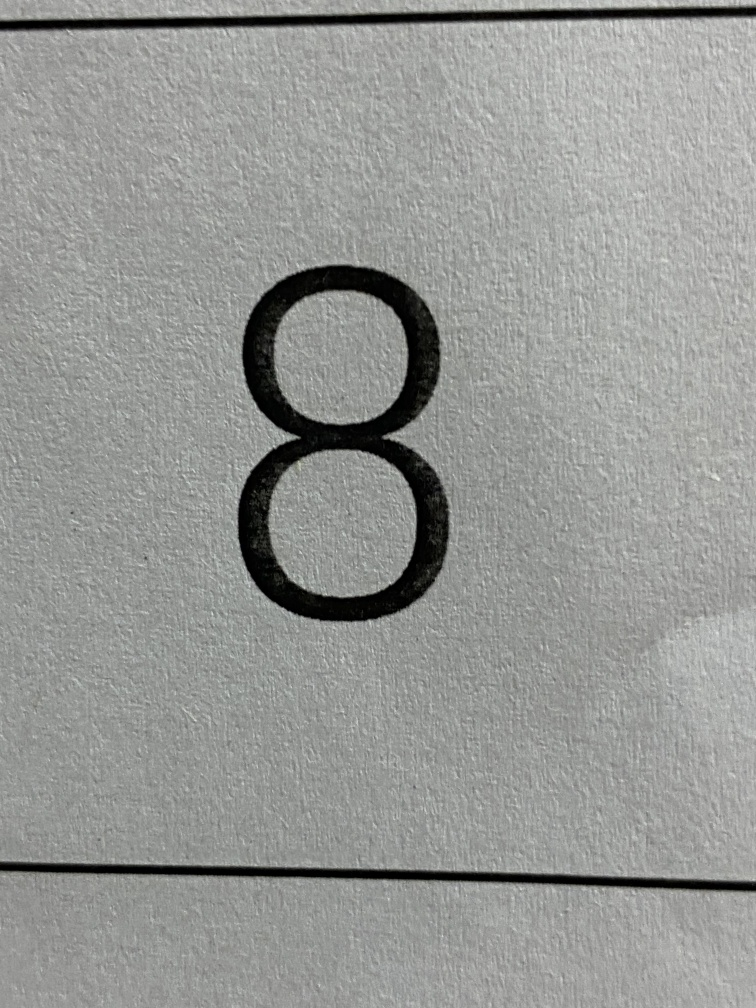eight: (150, 198, 535, 691)
